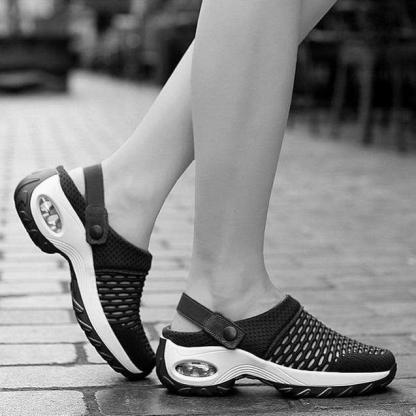ankle: (217, 291, 226, 299), (96, 219, 103, 226)
heel: (43, 171, 51, 177), (161, 363, 166, 368)
left_foot: (15, 166, 154, 384)
pinky: (146, 346, 150, 350), (362, 365, 366, 369)
right_foot: (156, 284, 400, 400)
toe: (374, 349, 381, 354), (136, 361, 140, 365)
